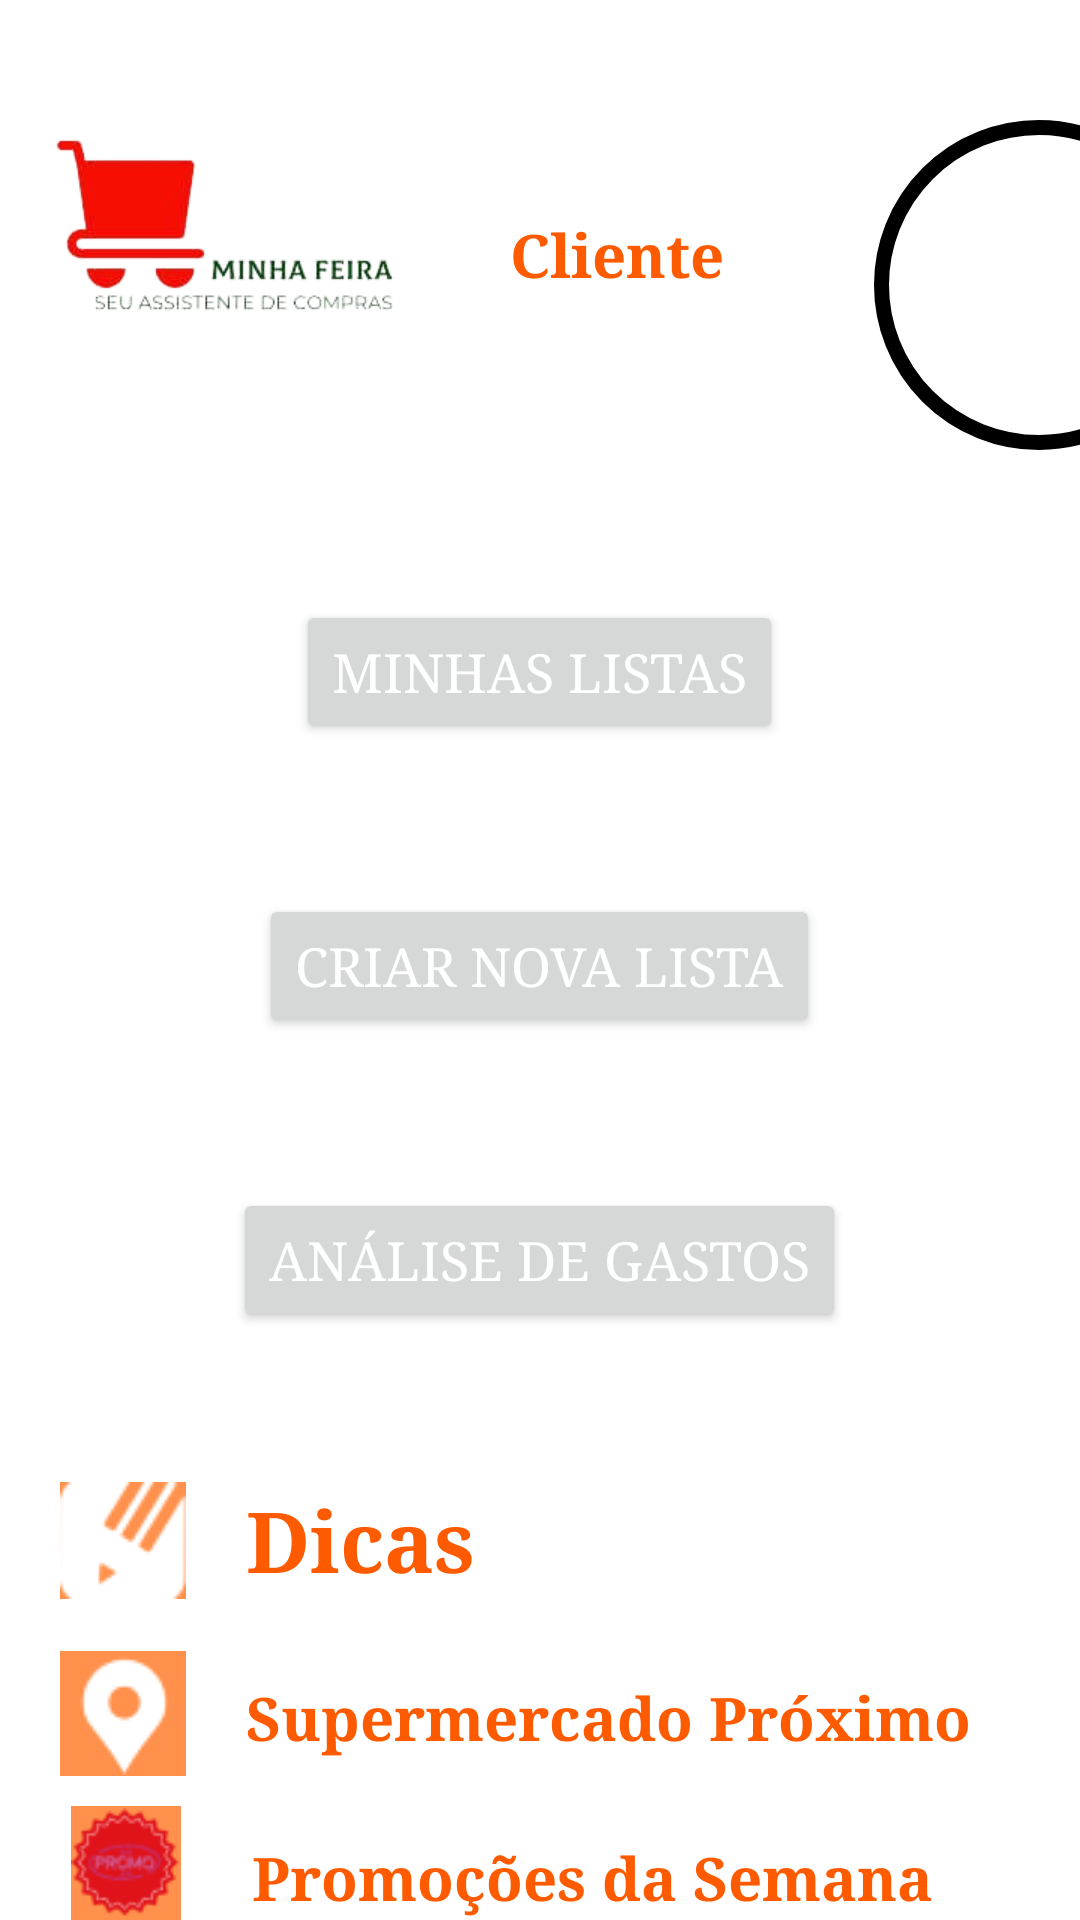

Where icons sit on this 1080 × 1920 app screen, as (x1, y1, x2, y2):
local: (60, 1651, 186, 1776)
